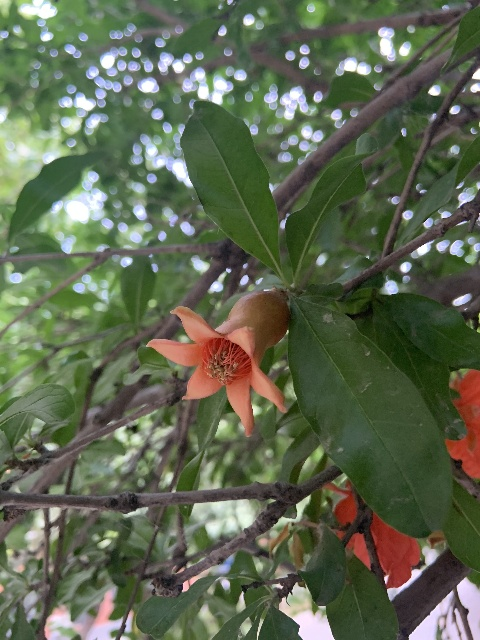early-fruit: (147, 289, 290, 434)
